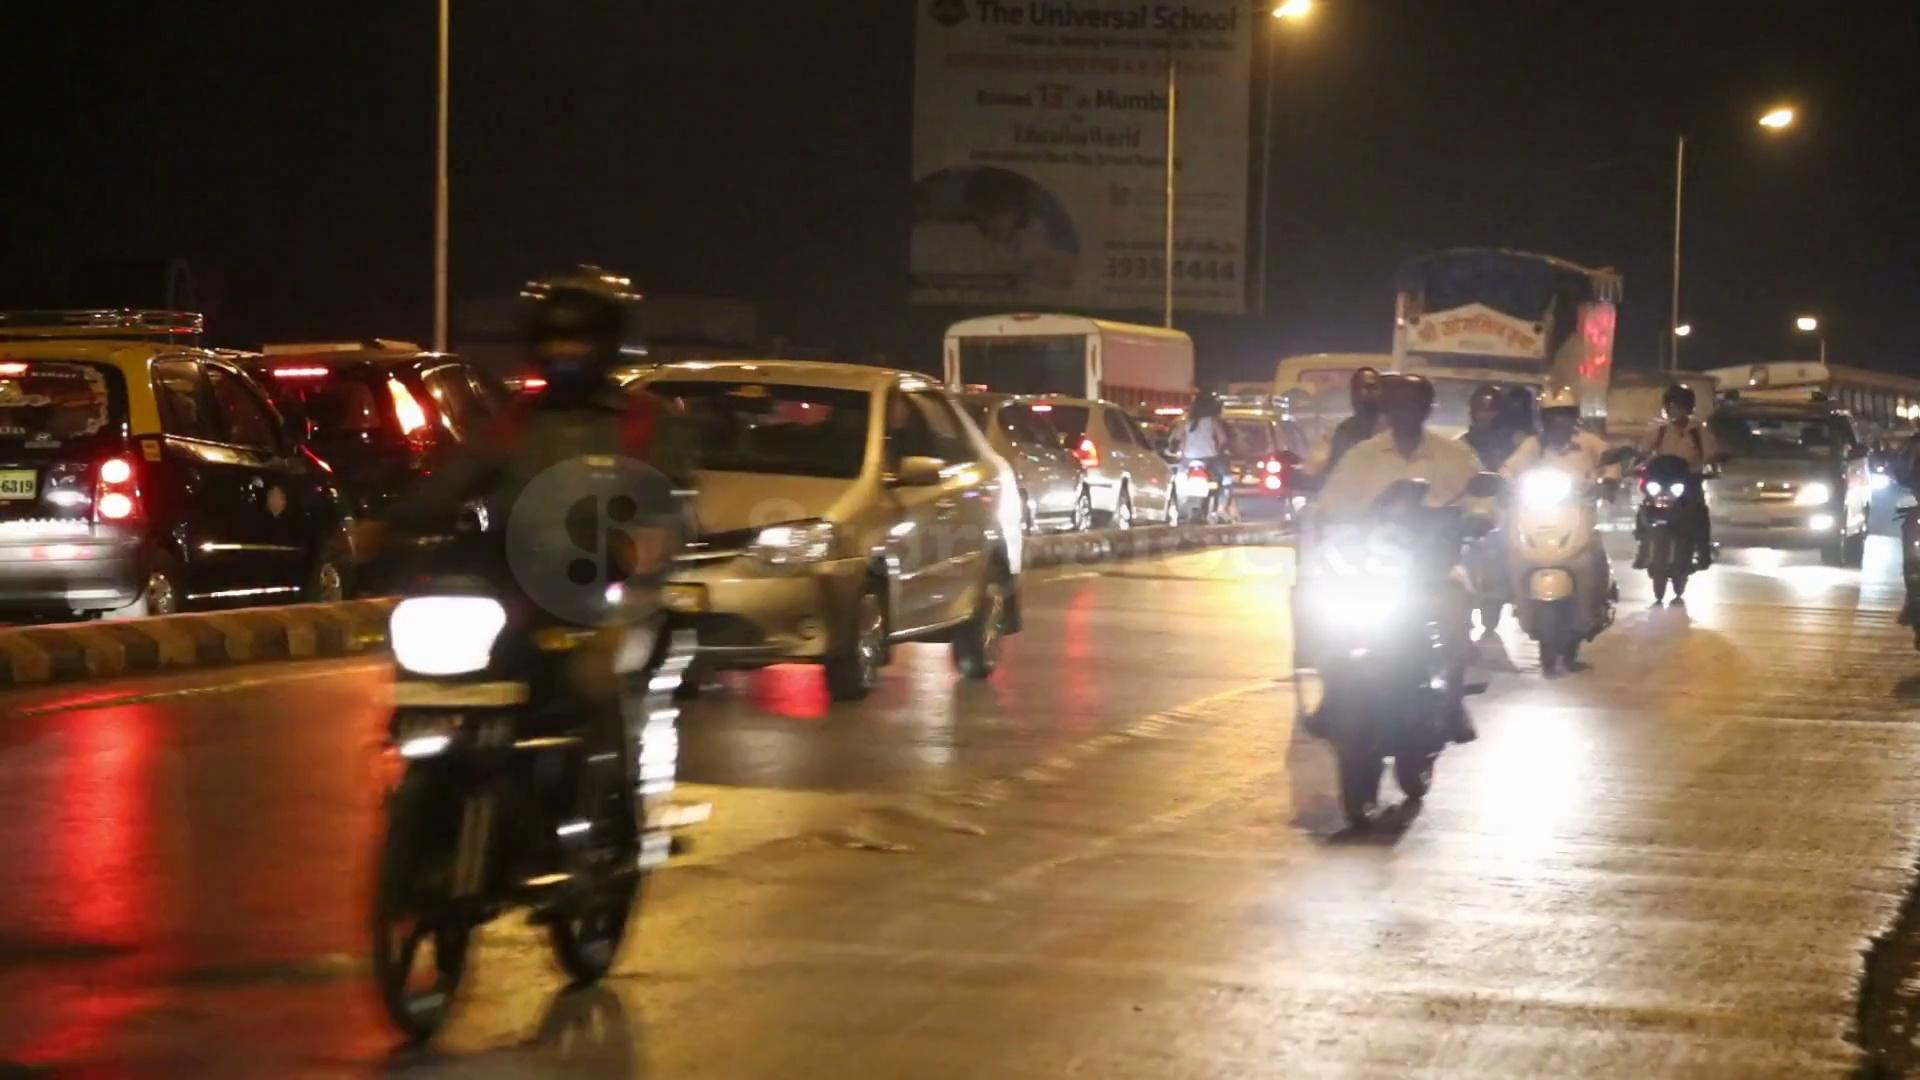rider: (366, 262, 706, 1035), (1290, 368, 1503, 829), (1519, 379, 1616, 671), (1631, 383, 1723, 603), (1167, 390, 1234, 539)
with_helmate: (503, 274, 640, 387), (1530, 384, 1581, 443), (1661, 384, 1693, 424)
without_helmate: (1380, 369, 1431, 446), (1327, 366, 1374, 416)
